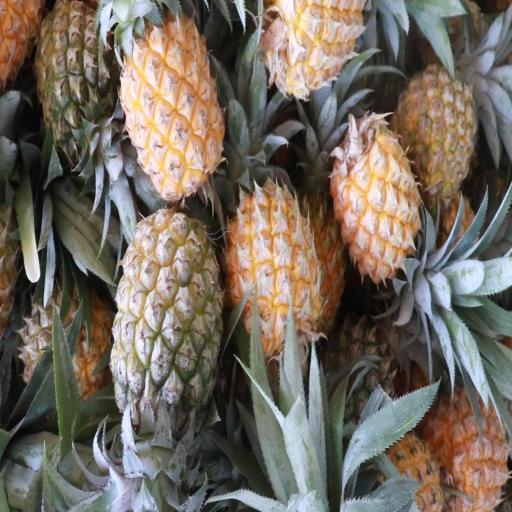------------------------------: (114, 203, 220, 423), (29, 284, 119, 420), (400, 67, 476, 201)
Pineapple - v8 v1: (122, 13, 226, 198), (230, 187, 318, 354), (333, 114, 419, 284), (431, 373, 508, 512), (265, 3, 369, 93)
